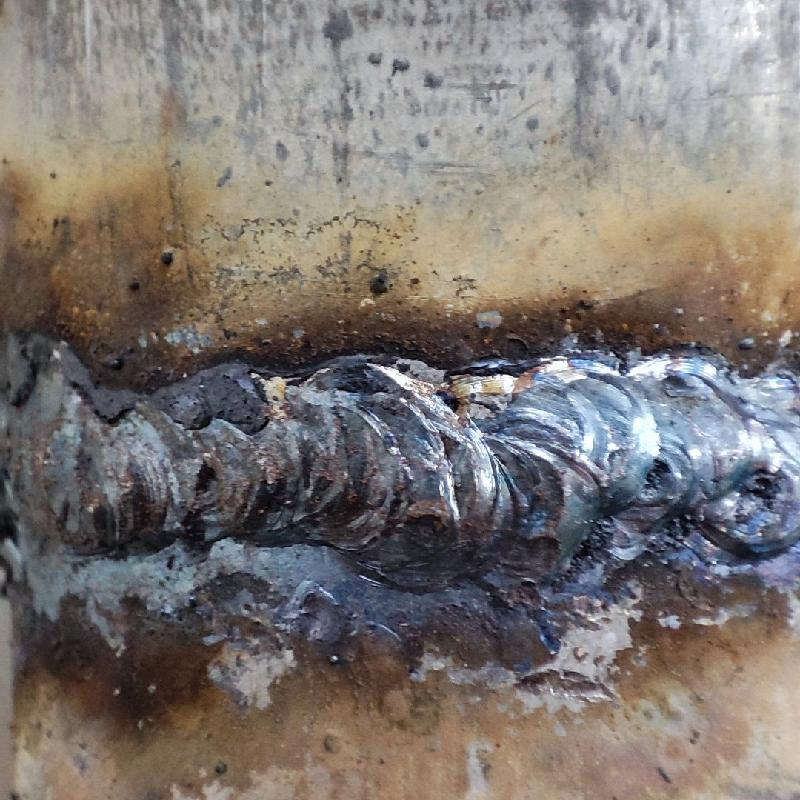good: (0, 323, 799, 570)
